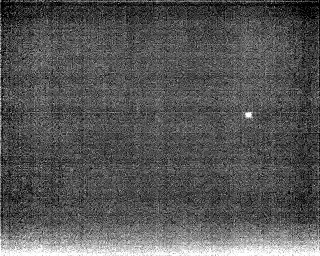AIRPLANE: (243, 110, 254, 120)
